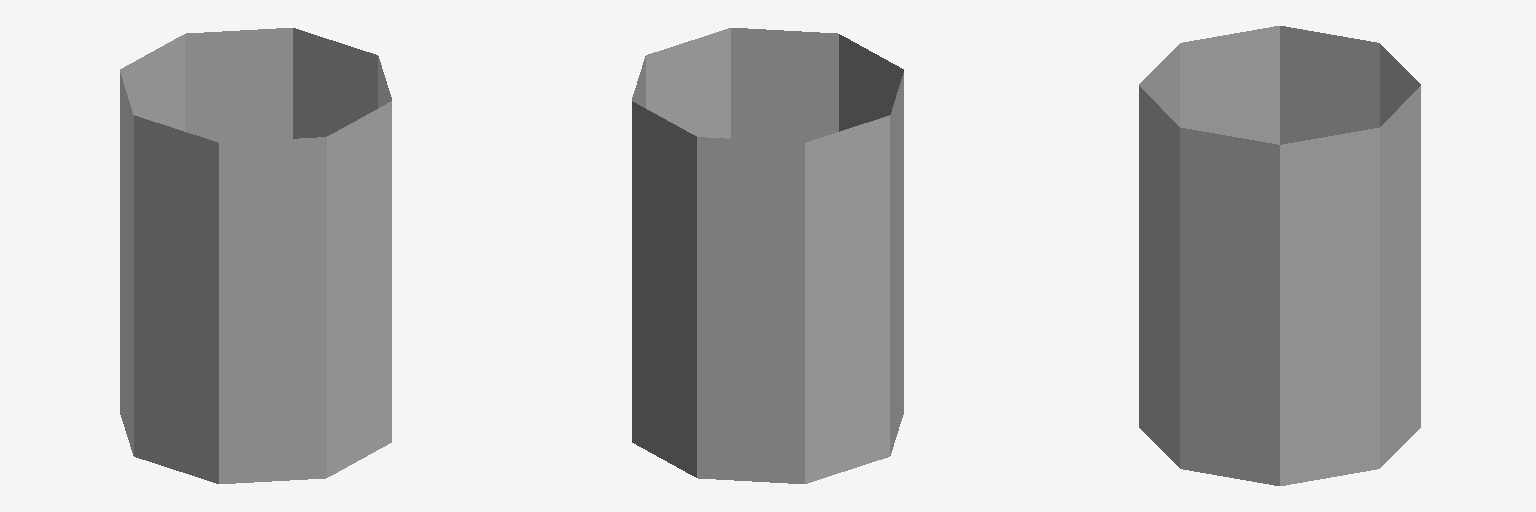
The model's file is ss_pipe_straight.obj.
The picture shows the model from 3 angles: view 1: azimuth 30°, elevation 25°; view 2: azimuth 150°, elevation 25°; view 3: azimuth 270°, elevation 25°; orthographic projection.
Visible parts, largest first — view 1: ss_pipe_straight_Cylinder.002; view 2: ss_pipe_straight_Cylinder.002; view 3: ss_pipe_straight_Cylinder.002.
Boxes of the visible parts, x1,y1,x2,y2 form: ss_pipe_straight_Cylinder.002: [120, 28, 391, 483]; ss_pipe_straight_Cylinder.002: [632, 28, 903, 483]; ss_pipe_straight_Cylinder.002: [1139, 26, 1420, 485].
Size of the model in its own units: 0.75 by 1 by 0.75.